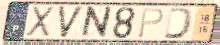8: (112, 5, 137, 40)
D: (162, 7, 195, 40)
N: (79, 5, 114, 40)
P: (136, 8, 165, 40)
V: (56, 5, 86, 40)
X: (24, 6, 56, 39)
